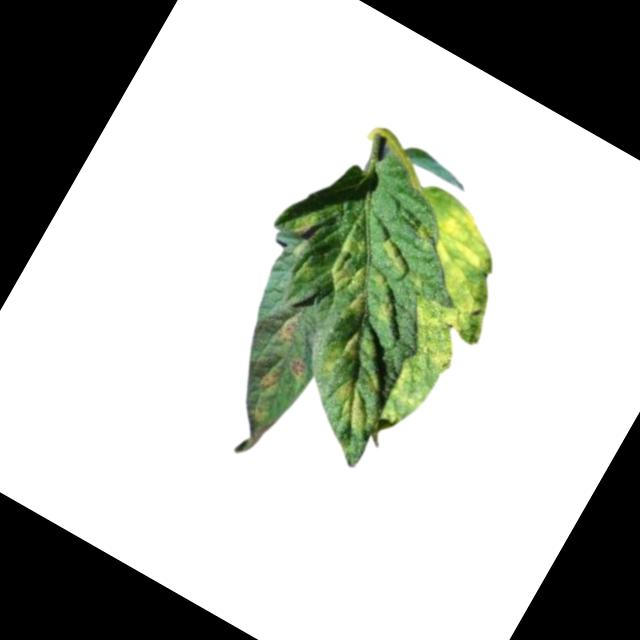Leaf_Mold: (260, 220, 450, 440), (211, 312, 326, 460), (401, 200, 520, 332), (362, 305, 469, 432)
